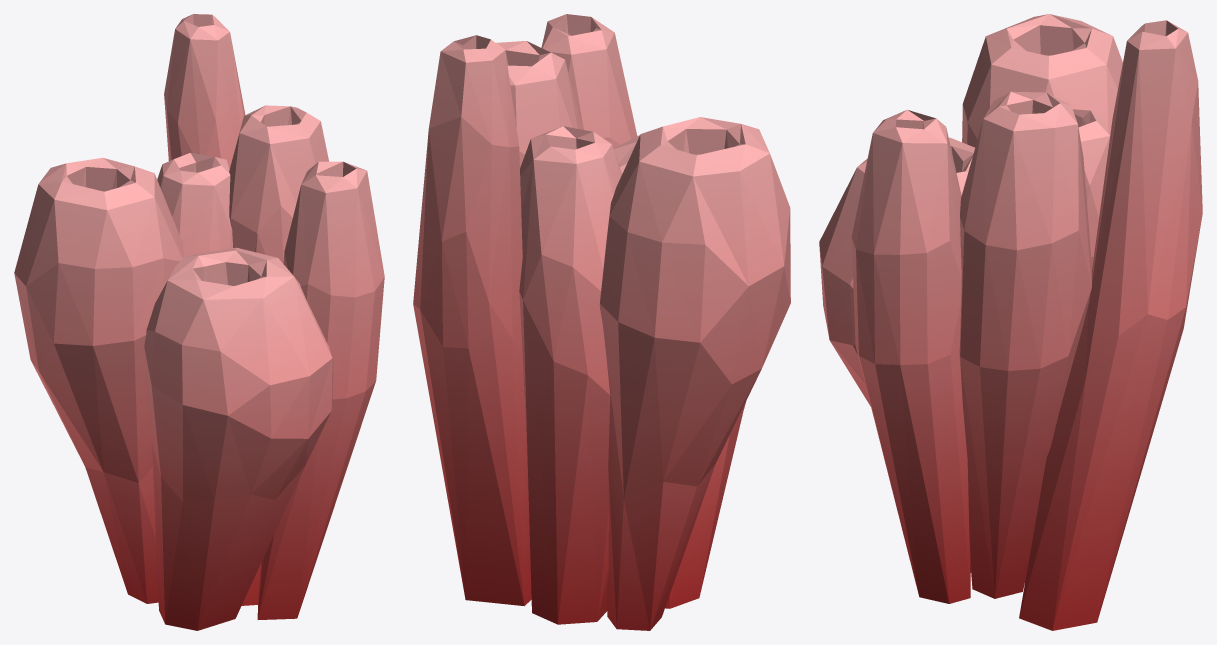
File: SM_Spongia_10.fbx
3 views of the same model, side by side, from view 1: azimuth 30°, elevation 25°; view 2: azimuth 150°, elevation 25°; view 3: azimuth 270°, elevation 25° (orthographic). The views are drawn at different scales.
Parts seen in each view (by area): view 1: Spongia_10; view 2: Spongia_10; view 3: Spongia_10.
Boxes of the visible parts, x1,y1,x2,y2 form: Spongia_10: (14, 14, 384, 630); Spongia_10: (413, 14, 790, 630); Spongia_10: (819, 14, 1202, 630).
Size of the model in its own units: 78.13 by 130 by 78.69.
